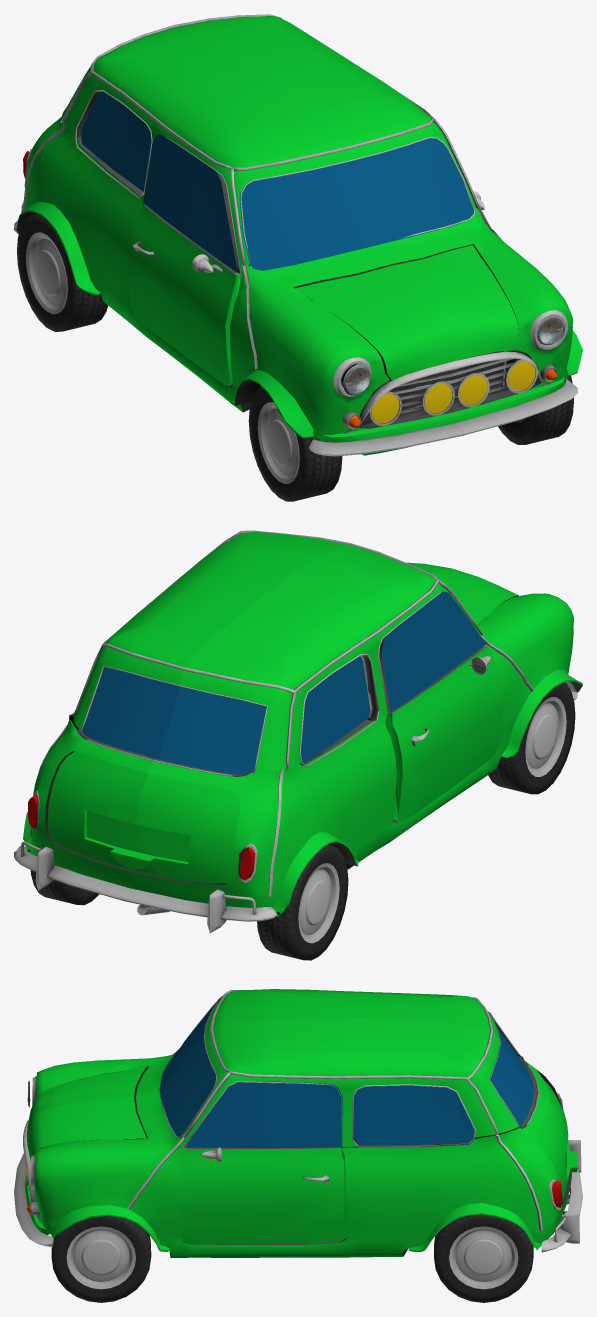
Rendered from Car2.fbx.
3 renders of one model, top to bottom at view 1: azimuth 30°, elevation 25°; view 2: azimuth 150°, elevation 25°; view 3: azimuth 270°, elevation 25°, orthographic. The views are drawn at different scales.
Visible parts, largest first — view 1: Bodyfbx, Roof, Front_Glass_, Hood, Door_1, Classic_2_Glass_FL__1___1_, BumperF, Classic_2_Glass_RL__1___1_, Tire_3, Tire_2, Metal_3, Metal_2 (+6 smaller); view 2: Roof, Bodyfbx, Trunk, back_Glass_, Door_1, Classic_2_Glass_FL__1___1_, BumperB, Classic_2_Glass_RL__1___1_, Tire_3, Tire_2, Metal_3, Metal_2 (+2 smaller); view 3: Bodyfbx, Roof, Door, Classic_2_Glass_FL__1_, Hood, Classic_2_Glass_RL__1_, Front_Glass_, Tire_1, Tire, Metal_1, Metal, back_Glass_ (+3 smaller).
Boxes of the visible parts, bbox=[...] form: Bodyfbx: bbox=[16, 117, 582, 455]; Roof: bbox=[60, 14, 479, 277]; Front_Glass_: bbox=[239, 138, 473, 270]; Hood: bbox=[295, 245, 518, 380]; Door_1: bbox=[127, 204, 240, 385]; Classic_2_Glass_FL__1___1_: bbox=[143, 134, 237, 272]; BumperF: bbox=[309, 358, 577, 456]; Classic_2_Glass_RL__1___1_: bbox=[81, 92, 151, 191]; Tire_3: bbox=[17, 213, 107, 331]; Tire_2: bbox=[248, 386, 342, 501]; Metal_3: bbox=[26, 232, 67, 314]; Metal_2: bbox=[257, 402, 299, 483]; Roof: bbox=[73, 530, 482, 773]; Bodyfbx: bbox=[23, 593, 582, 916]; Trunk: bbox=[47, 751, 240, 883]; back_Glass_: bbox=[82, 667, 266, 774]; Door_1: bbox=[385, 645, 502, 822]; Classic_2_Glass_FL__1___1_: bbox=[381, 591, 485, 712]; BumperB: bbox=[14, 841, 276, 933]; Classic_2_Glass_RL__1___1_: bbox=[299, 656, 370, 764]; Tire_3: bbox=[257, 844, 348, 960]; Tire_2: bbox=[488, 682, 575, 794]; Metal_3: bbox=[298, 863, 339, 943]; Metal_2: bbox=[525, 697, 566, 776]; Bodyfbx: bbox=[23, 1050, 571, 1257]; Roof: bbox=[182, 989, 520, 1148]; Door: bbox=[179, 1147, 346, 1244]; Classic_2_Glass_FL__1_: bbox=[185, 1081, 342, 1147]; Hood: bbox=[26, 1067, 146, 1161]; Classic_2_Glass_RL__1_: bbox=[353, 1085, 474, 1145]; Front_Glass_: bbox=[159, 1004, 215, 1136]; Tire_1: bbox=[434, 1214, 533, 1302]; Tire: bbox=[51, 1215, 151, 1302]; Metal_1: bbox=[449, 1226, 518, 1289]; Metal: bbox=[66, 1226, 135, 1289]; back_Glass_: bbox=[490, 1028, 534, 1127].
Bounding box in the file's own units: 302 × 273 × 605.
